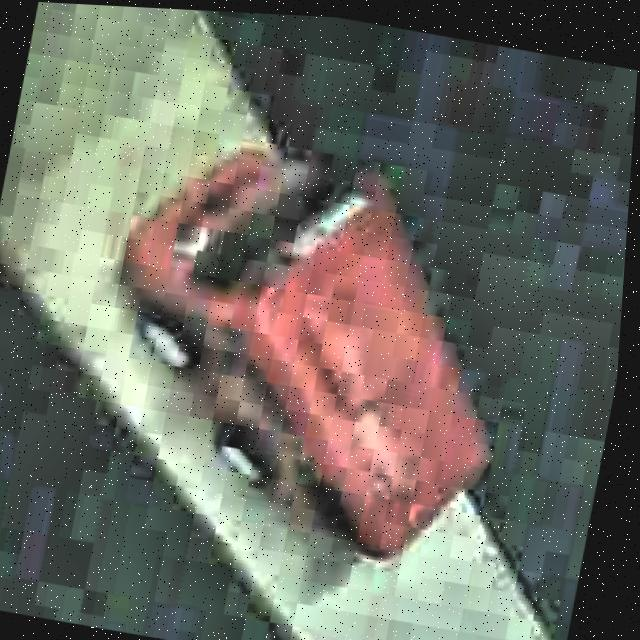bus: (65, 127, 543, 583)
